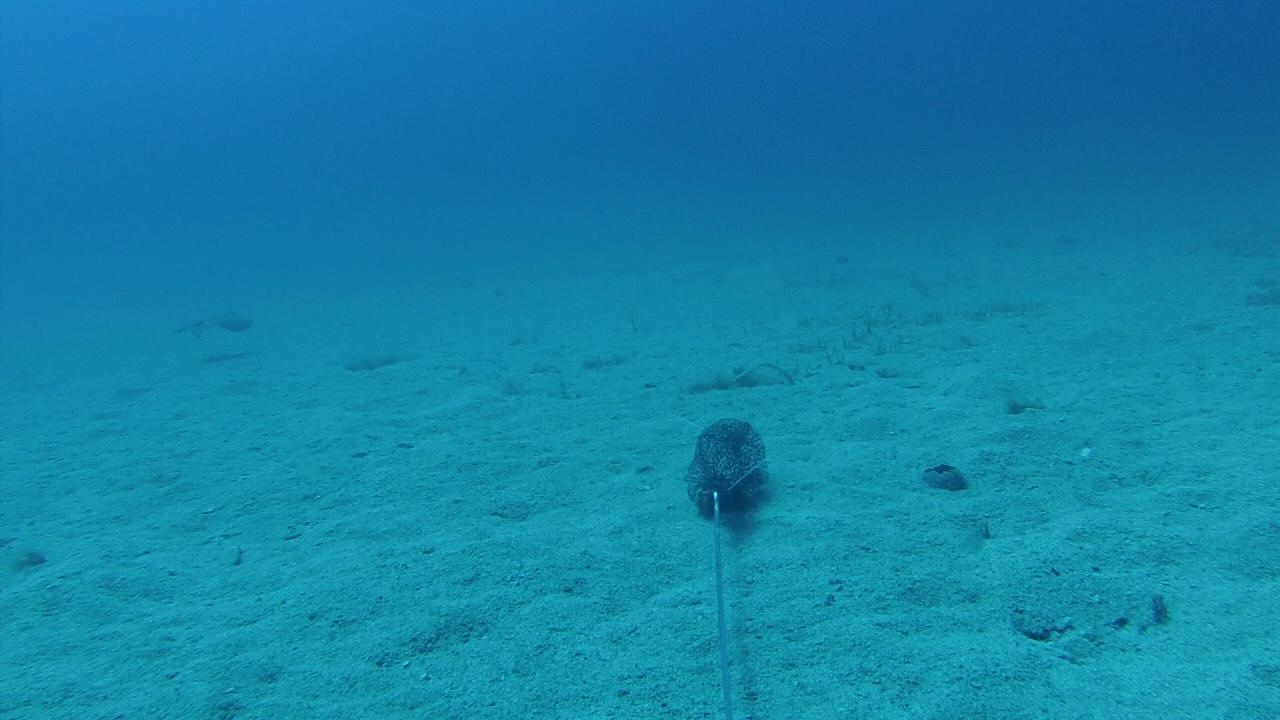bothus: (1010, 563, 1164, 660)
dasyatis: (171, 307, 252, 340)
